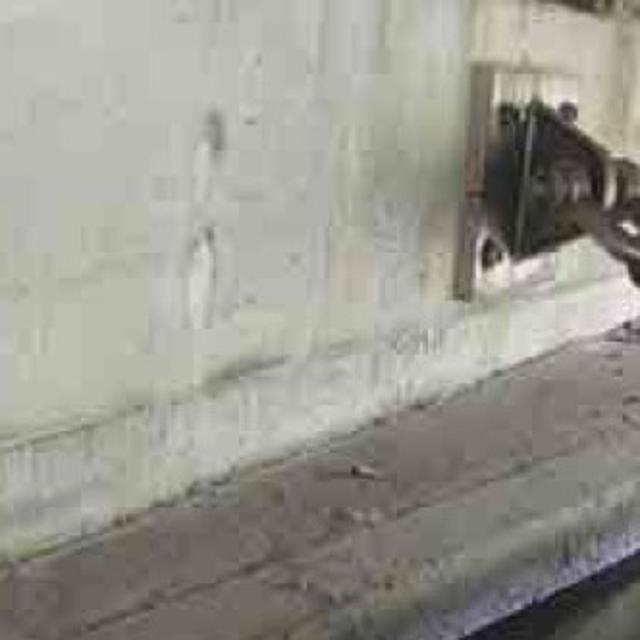freelime: (174, 230, 219, 347), (464, 243, 559, 297)
